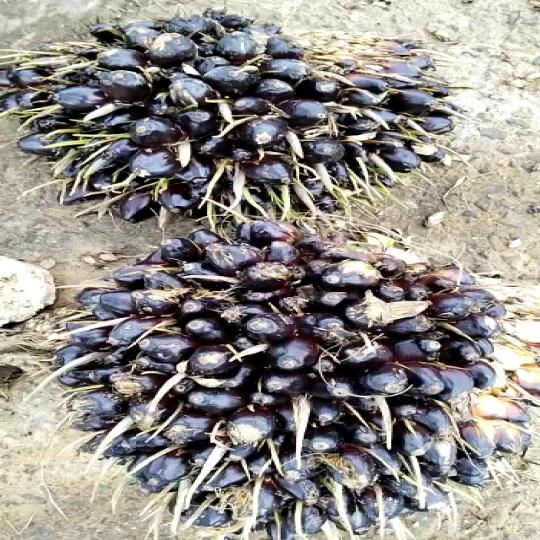mentah: (43, 226, 540, 539), (7, 2, 477, 223)
